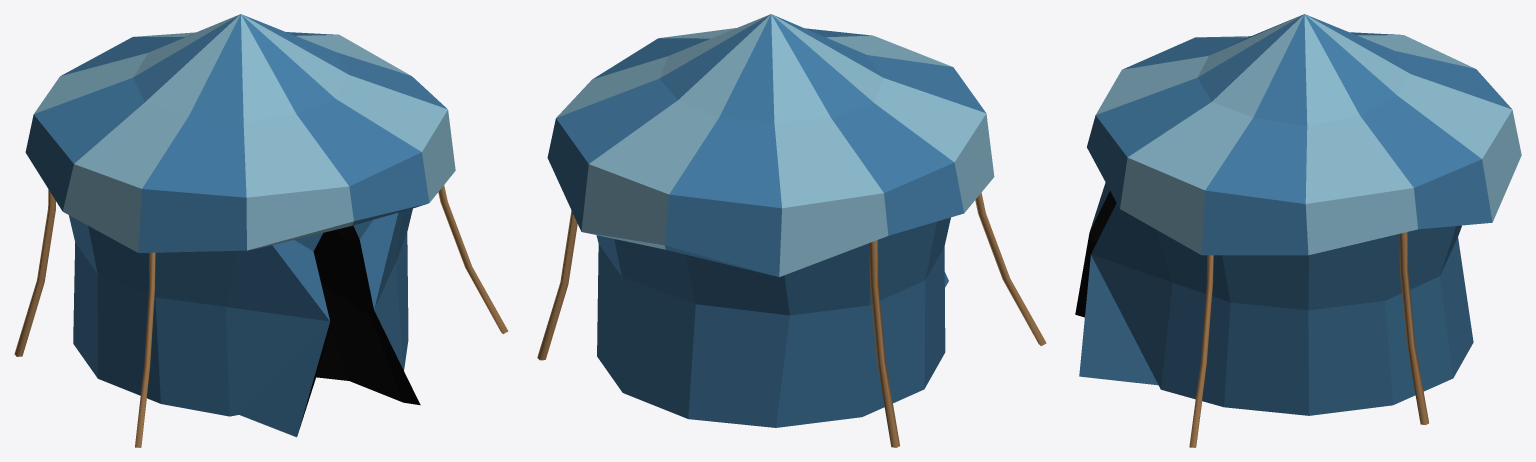
The model's file is Tent_Blue_Foncee_2.fbx.
The picture shows the model from 3 angles, left to right: view 1: azimuth 30°, elevation 25°; view 2: azimuth 150°, elevation 25°; view 3: azimuth 270°, elevation 25°; orthographic projection. The views are drawn at different scales.
Visible parts, largest first — view 1: polySurface6; view 2: polySurface6; view 3: polySurface6.
Part boxes in pixels (x1,y1,x2,y2): polySurface6: [14, 14, 508, 447]; polySurface6: [537, 14, 1046, 447]; polySurface6: [1075, 14, 1521, 447].
Size of the model in its own units: 99.01 by 80.48 by 95.64.
